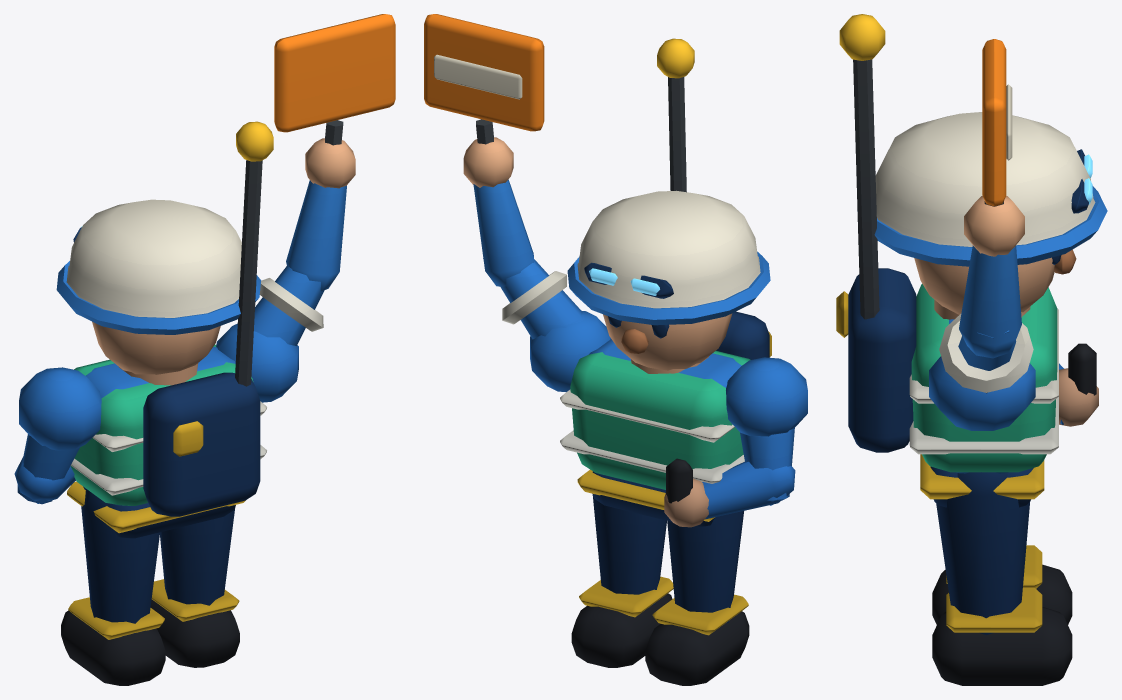
File: rescue-soldier.glb
3 views of the same model, side by side, from view 1: azimuth 30°, elevation 25°; view 2: azimuth 150°, elevation 25°; view 3: azimuth 270°, elevation 25° (orthographic). The views are drawn at different scales.
Visible parts, largest first — view 1: rescue-soldier Kestrel navy, rescue-soldier Warm white, rescue-soldier Kestrel sky, rescue-soldier WaveArm Signal orange, rescue-soldier WaveArm Kestrel sky, rescue-soldier Rubber, rescue-soldier Sunflower, rescue-soldier Relief mint, rescue-soldier Skin warm, rescue-soldier Gunmetal, rescue-soldier WaveArm Skin warm, rescue-soldier WaveArm Warm white; view 2: rescue-soldier Warm white, rescue-soldier Kestrel sky, rescue-soldier Relief mint, rescue-soldier Kestrel navy, rescue-soldier Rubber, rescue-soldier WaveArm Kestrel sky, rescue-soldier WaveArm Signal orange, rescue-soldier Sunflower, rescue-soldier Skin warm, rescue-soldier WaveArm Warm white, rescue-soldier WaveArm Skin warm, rescue-soldier Gunmetal (+1 smaller); view 3: rescue-soldier Warm white, rescue-soldier Kestrel navy, rescue-soldier Rubber, rescue-soldier WaveArm Kestrel sky, rescue-soldier Relief mint, rescue-soldier Sunflower, rescue-soldier Gunmetal, rescue-soldier Skin warm, rescue-soldier Kestrel sky, rescue-soldier WaveArm Signal orange, rescue-soldier WaveArm Warm white, rescue-soldier WaveArm Skin warm.
Part boxes in pixels (box(x1,y1,x2,y2)): rescue-soldier Kestrel navy: box(73, 227, 260, 633); rescue-soldier Warm white: box(66, 199, 266, 495); rescue-soldier Kestrel sky: box(14, 261, 261, 505); rescue-soldier WaveArm Signal orange: box(274, 14, 395, 132); rescue-soldier WaveArm Kestrel sky: box(216, 180, 346, 402); rescue-soldier Rubber: box(61, 599, 239, 685); rescue-soldier Sunflower: box(67, 121, 273, 639); rescue-soldier Relief mint: box(70, 344, 253, 505); rescue-soldier Skin warm: box(92, 321, 220, 385); rescue-soldier Gunmetal: box(235, 160, 262, 386); rescue-soldier WaveArm Skin warm: box(305, 138, 355, 188); rescue-soldier WaveArm Warm white: box(259, 278, 323, 331); rescue-soldier Warm white: box(560, 190, 760, 483); rescue-soldier Kestrel sky: box(567, 251, 807, 519); rescue-soldier Relief mint: box(570, 351, 750, 489); rescue-soldier Kestrel navy: box(584, 262, 769, 623); rescue-soldier Rubber: box(571, 458, 749, 685); rescue-soldier WaveArm Kestrel sky: box(473, 179, 610, 391); rescue-soldier WaveArm Signal orange: box(424, 14, 544, 131); rescue-soldier Sunflower: box(577, 38, 771, 635); rescue-soldier Skin warm: box(603, 313, 732, 527); rescue-soldier WaveArm Warm white: box(434, 54, 566, 324); rescue-soldier WaveArm Skin warm: box(463, 137, 513, 187); rescue-soldier Gunmetal: box(668, 77, 686, 192); rescue-soldier Warm white: box(875, 112, 1095, 454); rescue-soldier Kestrel navy: box(848, 149, 1088, 635); rescue-soldier Rubber: box(932, 343, 1096, 685); rescue-soldier WaveArm Kestrel sky: box(929, 245, 1035, 430); rescue-soldier Relief mint: box(911, 284, 1057, 472); rescue-soldier Sunflower: box(836, 14, 1044, 632); rescue-soldier Gunmetal: box(853, 59, 879, 319); rescue-soldier Skin warm: box(914, 257, 1098, 426); rescue-soldier Kestrel sky: box(857, 186, 1107, 473); rescue-soldier WaveArm Signal orange: box(982, 39, 1006, 206); rescue-soldier WaveArm Warm white: box(939, 84, 1033, 392); rescue-soldier WaveArm Skin warm: box(964, 196, 1024, 256).
Size of the model in its own units: 1.26 by 1.91 by 0.6779.
Materials: 11 (10 with a texture image).
